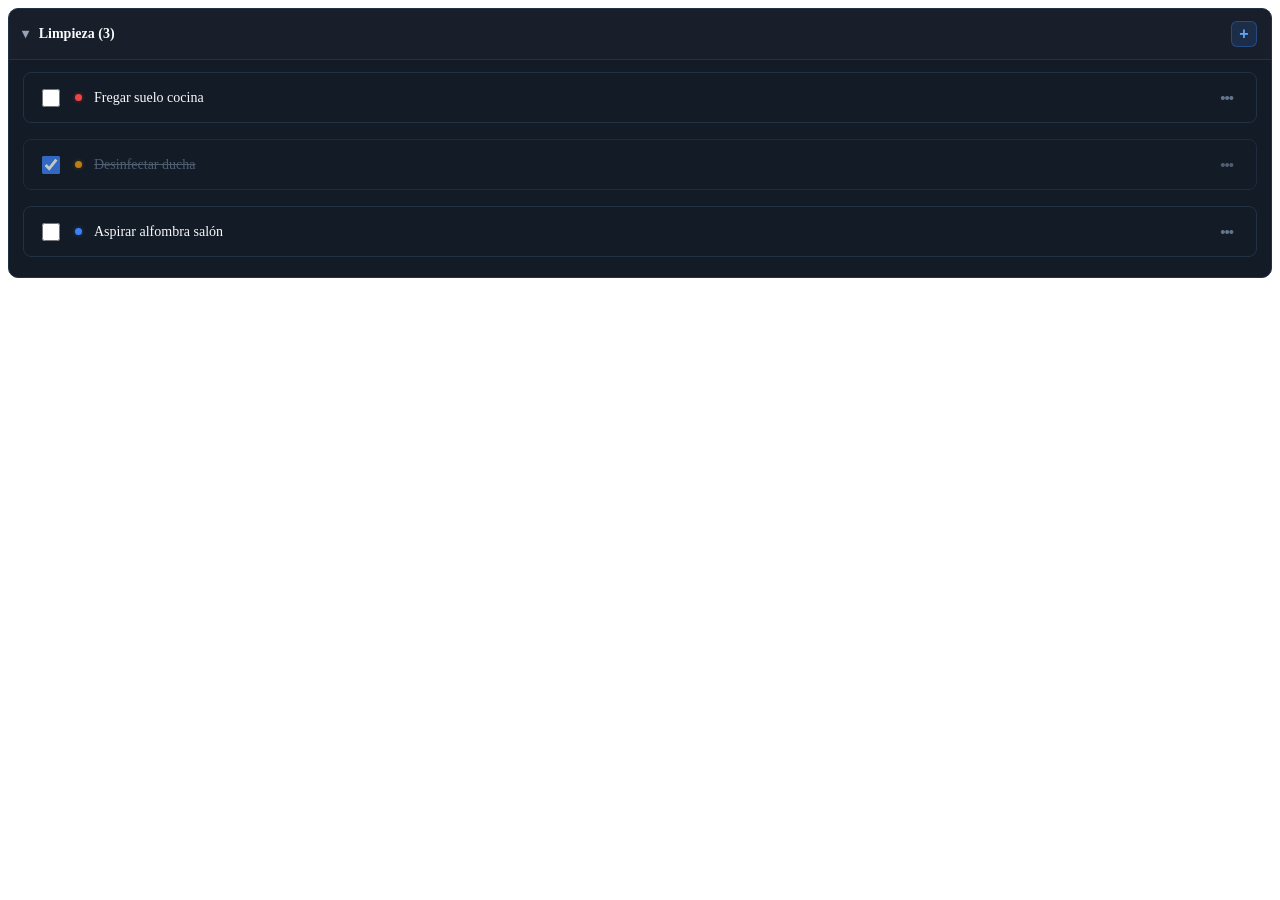
CleaningAccordion Component (Homogeneidad con Tareas y Compra) › 7. debe incorporar nueva tarea creada e incrementar el contador de la cabecera
Click the button with test id "cleaning-create-button": click(1244, 34) [1231,21,1257,47]
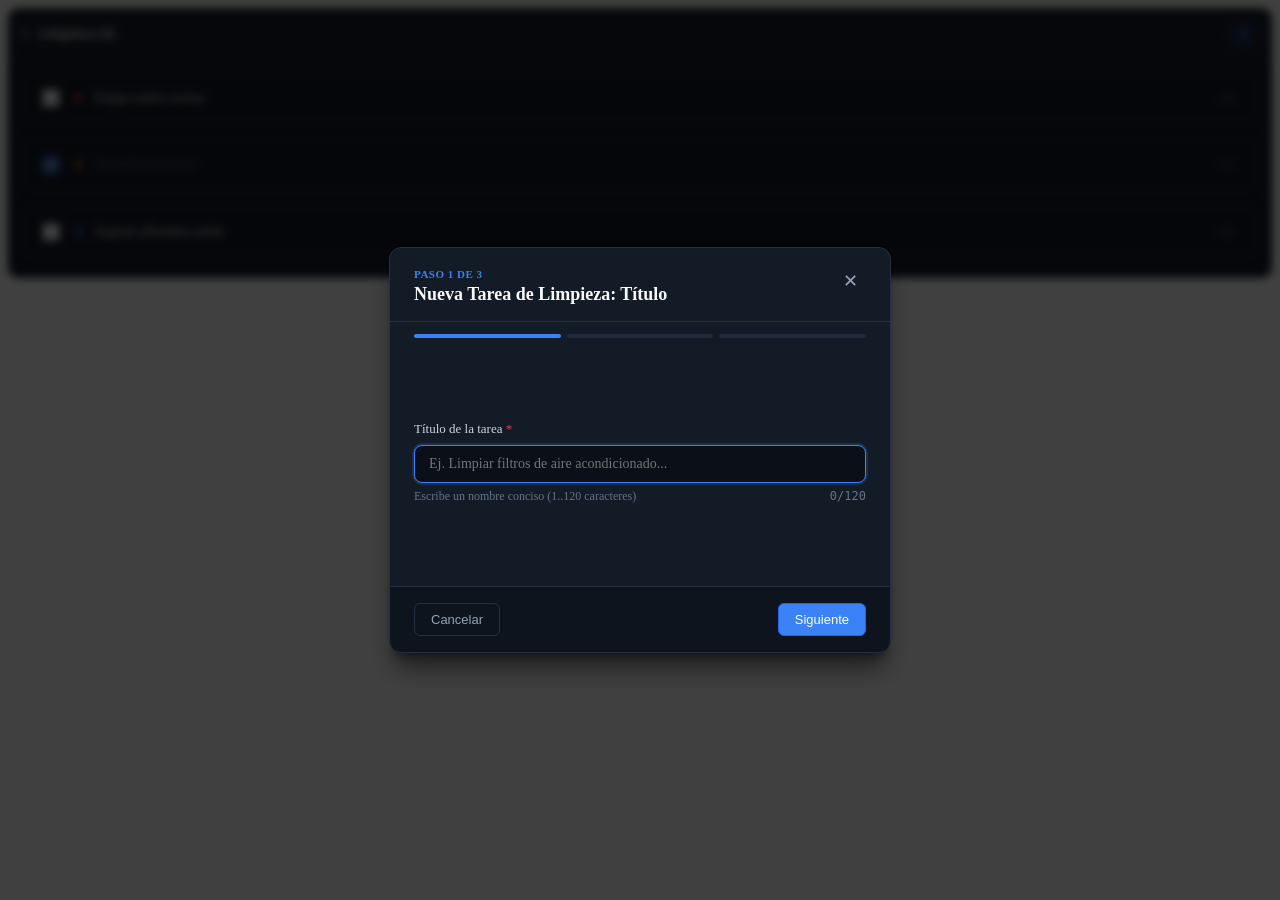
In the field labelled "Título de la tarea *": (640, 464) [414,444,866,482], type "Barrer terraza"
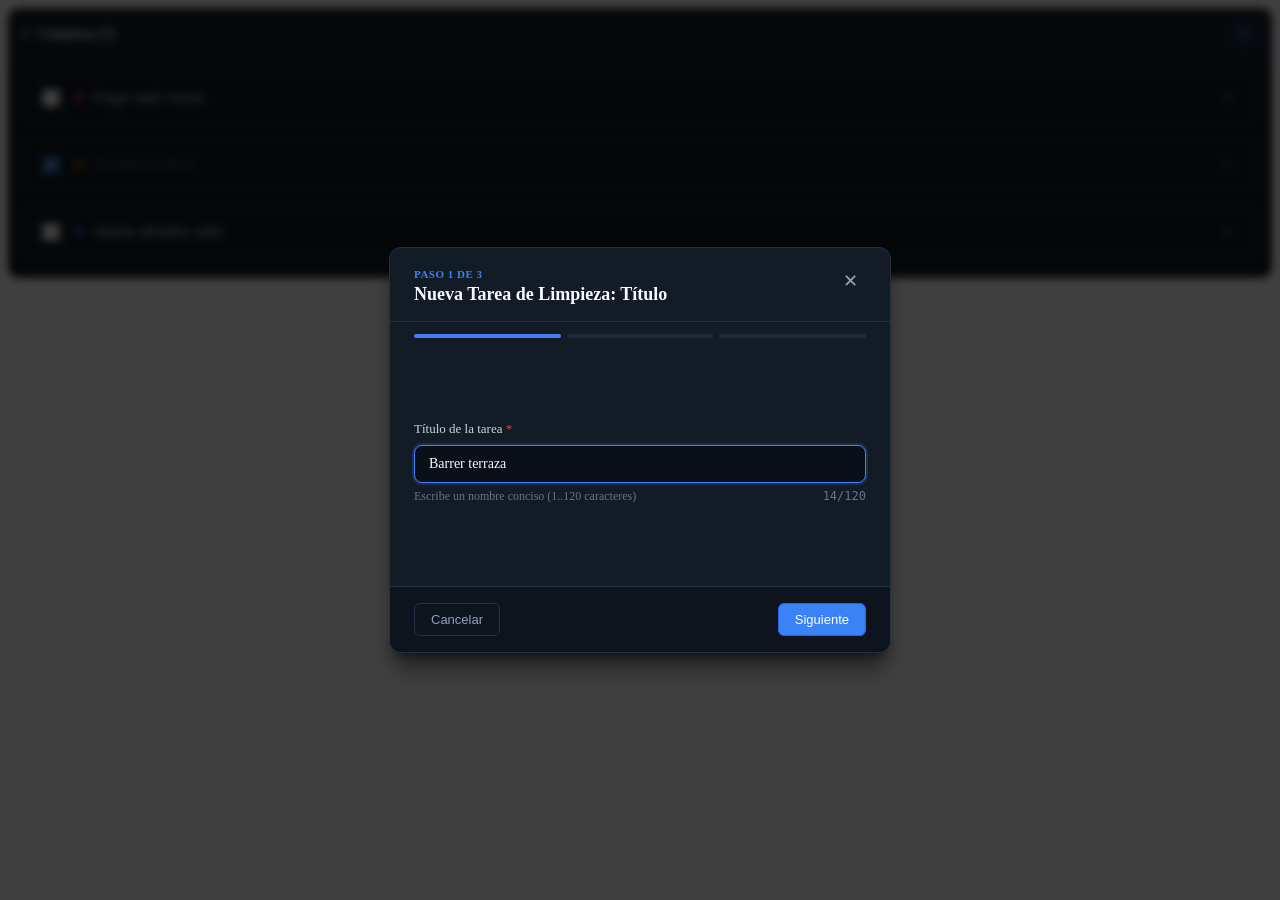
Click the button "Siguiente": click(822, 620) [778,603,866,636]
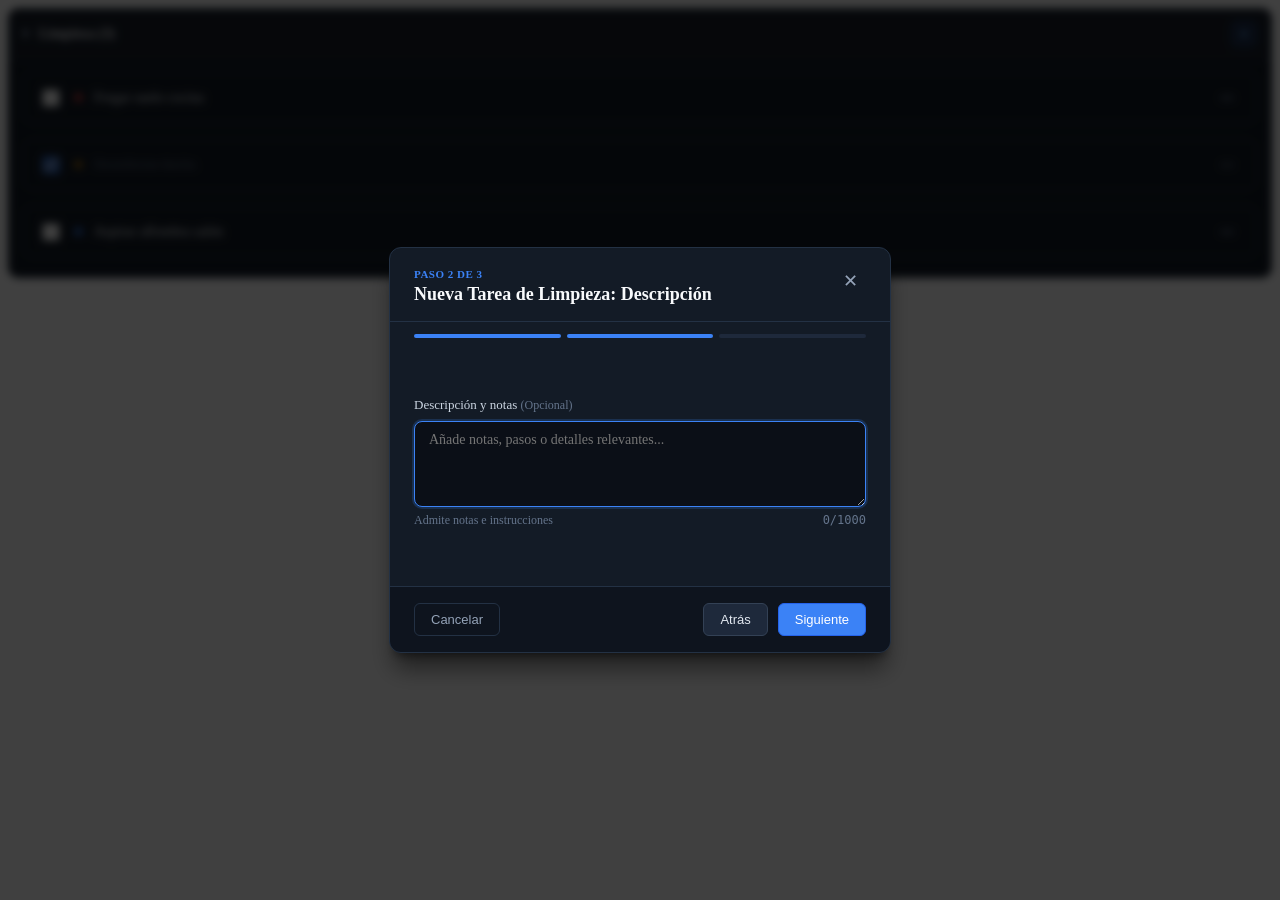
Click the button "Siguiente": click(822, 620) [778,603,866,636]
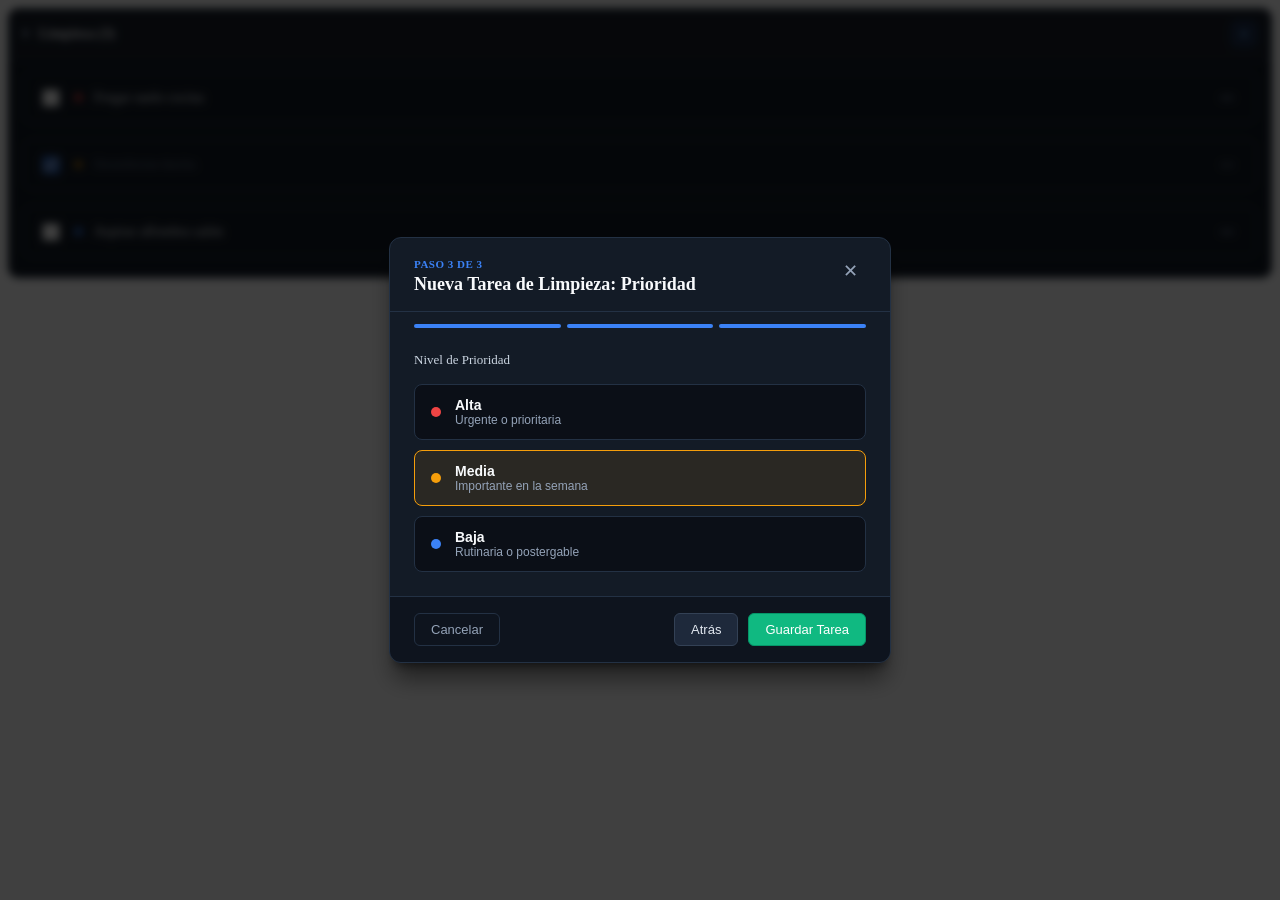
Click the button "Guardar Tarea": click(807, 630) [748,613,866,646]
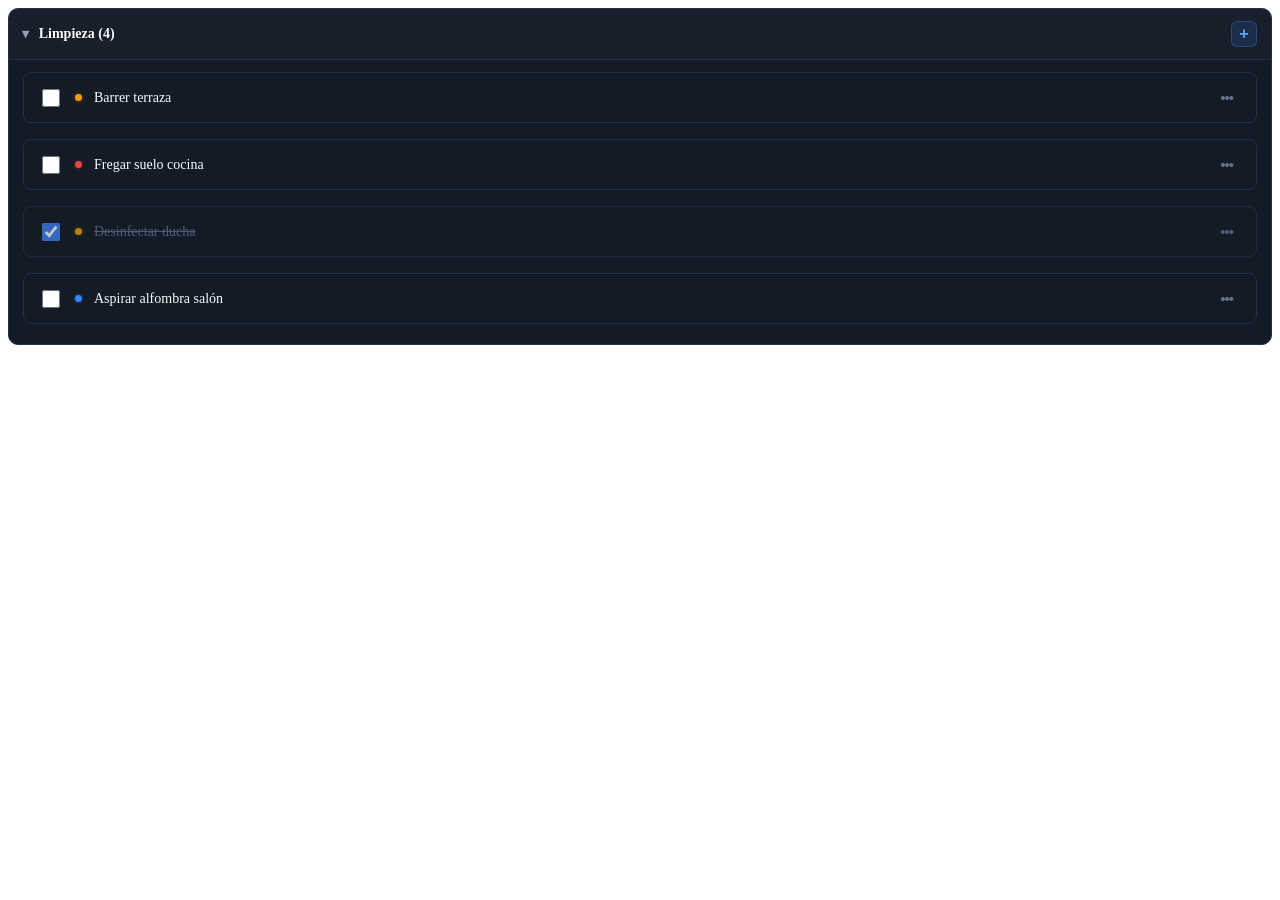
Expected: the text "Barrer terraza" is shown, [94,90,171,104]
Expected: the heading "Limpieza (4)" is shown, [39,26,114,42]
